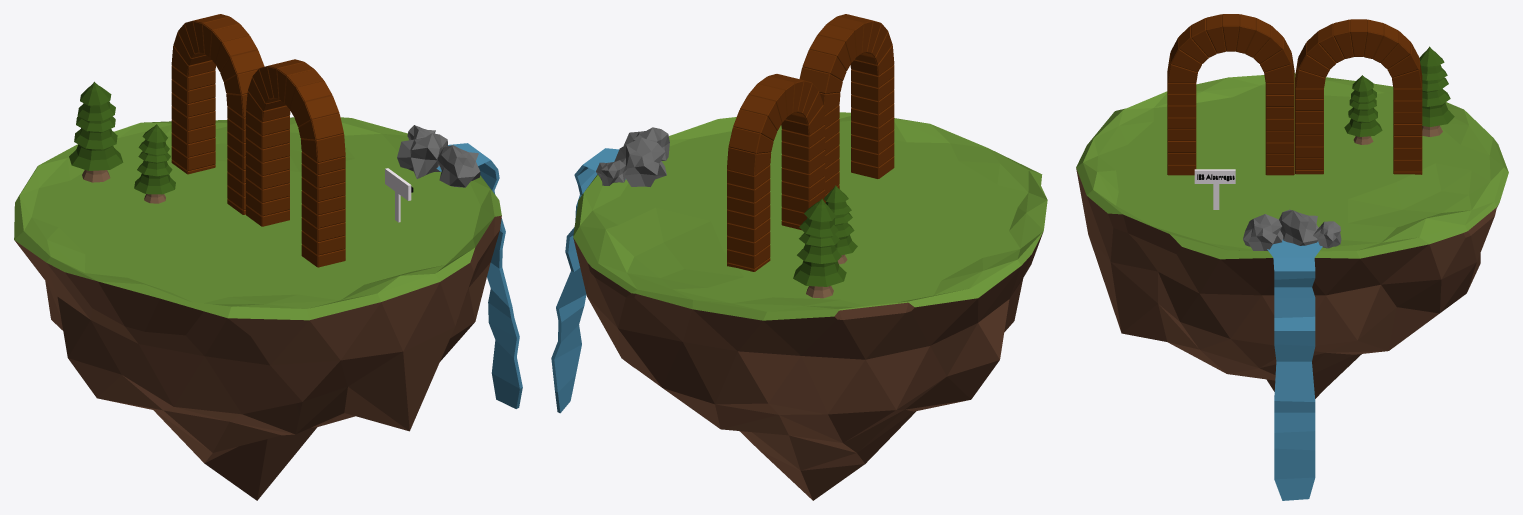
The model's file is isla.glb.
3 views of the same model, side by side, from view 1: azimuth 30°, elevation 25°; view 2: azimuth 150°, elevation 25°; view 3: azimuth 270°, elevation 25° (orthographic). The views are drawn at different scales.
Visible parts, largest first — view 1: Isla, Acueducto.002, Acueducto.001, Agua, Arbol, Arbol.001, Roca 3, Roca 2, Cartel; view 2: Isla, Acueducto.001, Acueducto.002, Agua, Arbol, Roca 3, Arbol.001, Roca 1, Roca 2; view 3: Isla, Acueducto.002, Acueducto.001, Agua, Arbol, Arbol.001, Roca 3, Roca 2, Cartel, Roca 1.
Boxes of the visible parts, box(x1,y1,x2,y2) form: Isla: box(14, 117, 501, 500); Acueducto.002: box(246, 59, 345, 267); Acueducto.001: box(171, 14, 264, 214); Agua: box(436, 143, 522, 408); Arbol: box(69, 81, 123, 182); Arbol.001: box(134, 124, 175, 203); Roca 3: box(397, 133, 447, 178); Roca 2: box(437, 145, 480, 187); Cartel: box(385, 168, 411, 222); Isla: box(573, 112, 1047, 500); Acueducto.001: box(727, 74, 825, 271); Acueducto.002: box(799, 14, 894, 202); Agua: box(551, 148, 625, 413); Arbol: box(793, 199, 846, 298); Roca 3: box(614, 137, 666, 186); Arbol.001: box(824, 185, 857, 264); Roca 1: box(596, 160, 627, 185); Roca 2: box(623, 127, 669, 160); Isla: box(1076, 73, 1508, 398); Acueducto.002: box(1167, 14, 1294, 175); Acueducto.001: box(1295, 19, 1422, 174); Agua: box(1267, 239, 1322, 500); Arbol: box(1419, 46, 1454, 136); Arbol.001: box(1344, 75, 1382, 144); Roca 3: box(1279, 209, 1318, 245); Roca 2: box(1243, 214, 1283, 250); Cartel: box(1194, 169, 1235, 209); Roca 1: box(1313, 221, 1341, 248).
Size of the model in its own units: 23.1 by 21.65 by 21.03.
11 materials, 7 textured.
